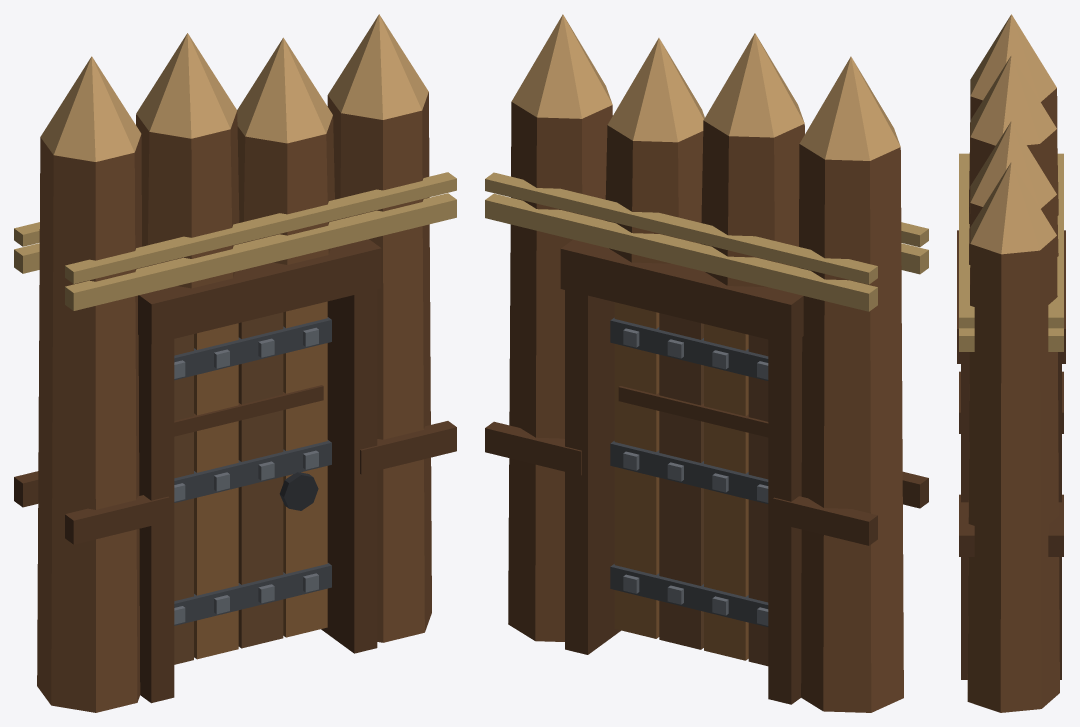
File: palisade_postern.glb
3 renders of one model, left to right at view 1: azimuth 30°, elevation 25°; view 2: azimuth 150°, elevation 25°; view 3: azimuth 270°, elevation 25°, orthographic. The views are drawn at different scales.
Visible parts, largest first — view 1: gate_palisade_postern; view 2: gate_palisade_postern; view 3: gate_palisade_postern.
Boxes of the visible parts, bbox=[...] form: gate_palisade_postern: bbox=[14, 14, 456, 712]; gate_palisade_postern: bbox=[485, 14, 928, 712]; gate_palisade_postern: bbox=[957, 14, 1065, 712].
Bounding box in the file's own units: 2 × 3.16 × 0.56.
